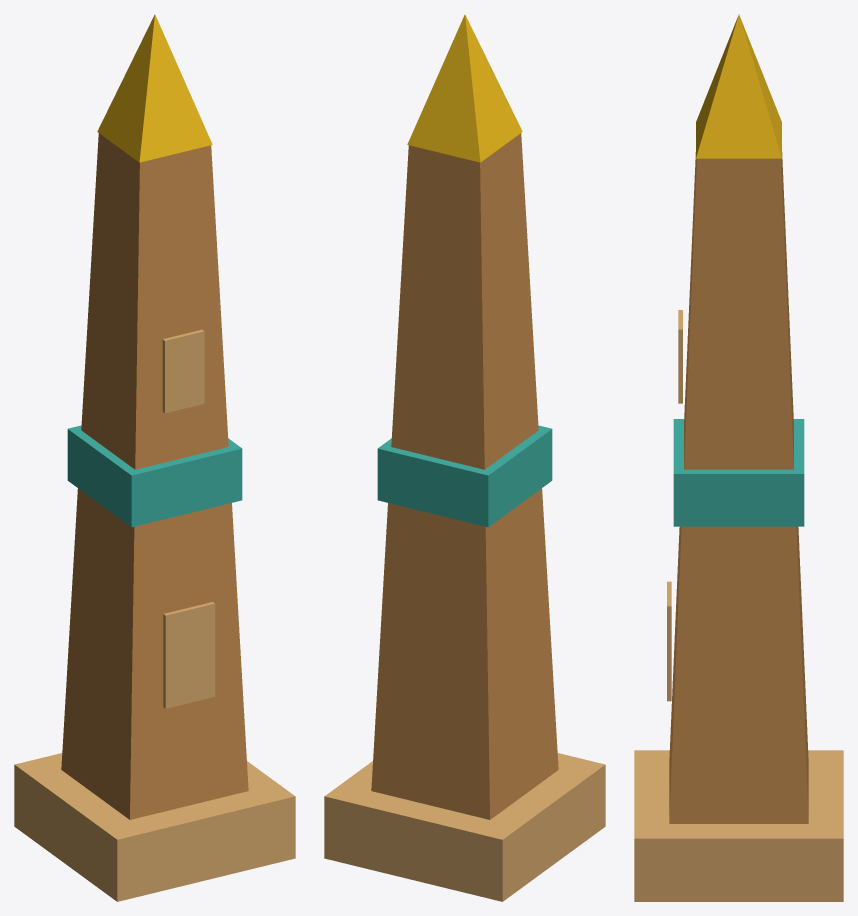
File: env_r5_obelisk.glb
The picture shows the model from 3 angles, left to right: view 1: azimuth 30°, elevation 25°; view 2: azimuth 150°, elevation 25°; view 3: azimuth 270°, elevation 25°; orthographic projection.
Visible parts, largest first — view 1: env_r5_obelisk; view 2: env_r5_obelisk; view 3: env_r5_obelisk.
Boxes of the visible parts, x1,y1,x2,y2 form: env_r5_obelisk: (14, 14, 295, 901); env_r5_obelisk: (324, 14, 605, 901); env_r5_obelisk: (634, 14, 843, 901).
Size of the model in its own units: 1.8 by 8 by 1.8.
1 material, 1 textured.
